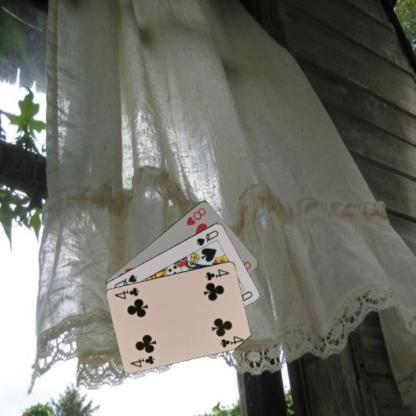4c: (202, 266, 230, 282), (128, 353, 156, 369)
8h: (184, 204, 208, 226)
Qs: (194, 227, 221, 247)
